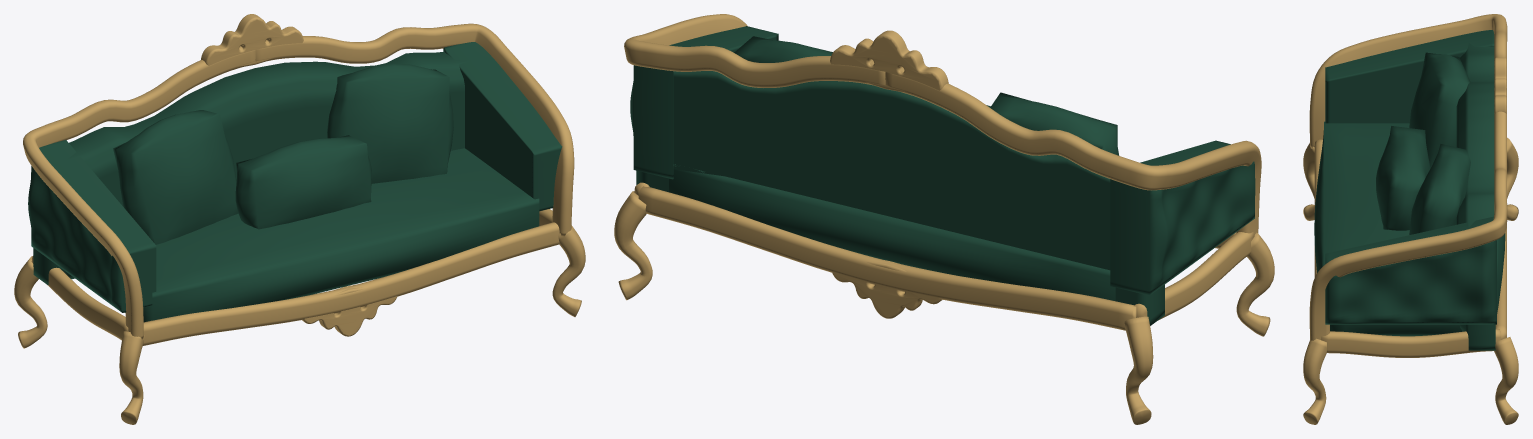
File: ar-sofa-emerald-velvet.glb
3 renders of one model, left to right at view 1: azimuth 30°, elevation 25°; view 2: azimuth 150°, elevation 25°; view 3: azimuth 270°, elevation 25°, orthographic. The views are drawn at different scales.
Visible parts, largest first — view 1: piece-royal; view 2: piece-royal; view 3: piece-royal.
Boxes of the visible parts, left/top/right/bottom form: piece-royal: left=14, top=14, right=585, bottom=424; piece-royal: left=614, top=14, right=1274, bottom=424; piece-royal: left=1303, top=14, right=1518, bottom=424.
Size of the model in its own units: 2.1 by 1.19 by 0.8838.
